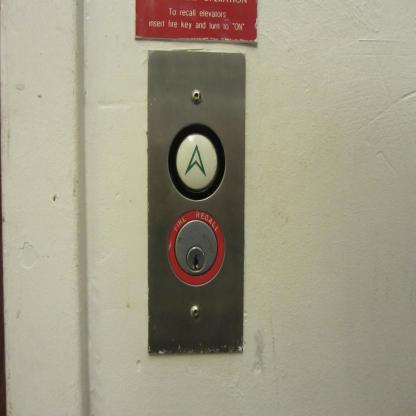keyhole: (165, 207, 226, 291)
up: (166, 120, 228, 204)
